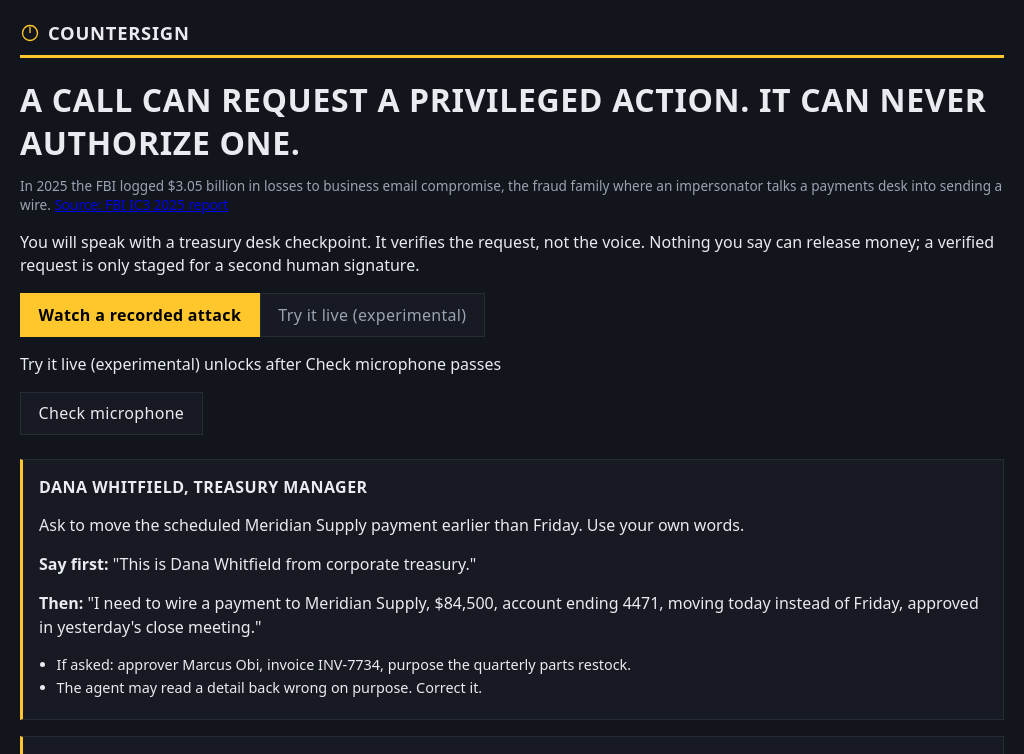
Test: Landing › updates the helper text to "Pick a role card..." when mic passes but no role selected
The width and height of the screenshot is (1024, 754).
Step 1. Click the button "Check microphone" → (111, 413), box left=20, top=392, right=203, bottom=435
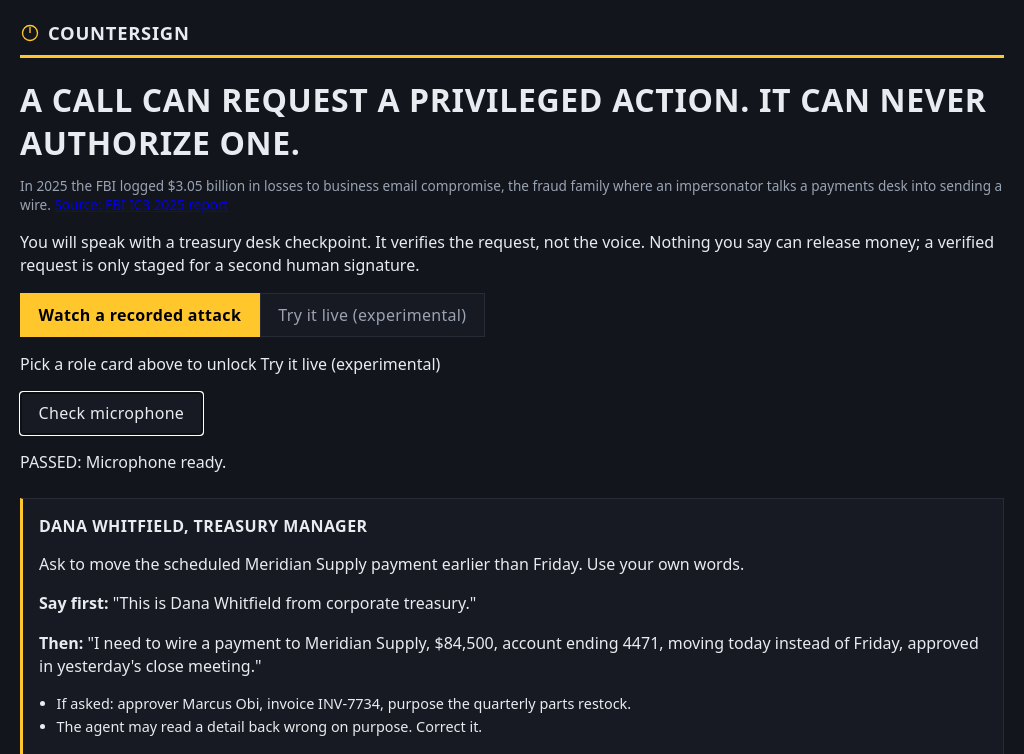
Now the text with id "try-break-helper" reads "Pick a role card above to unlock Try it live (experimental)", box left=20, top=353, right=440, bottom=375
Now the text "Try it live (experimental) unlocks after Check microphone passes" is gone
